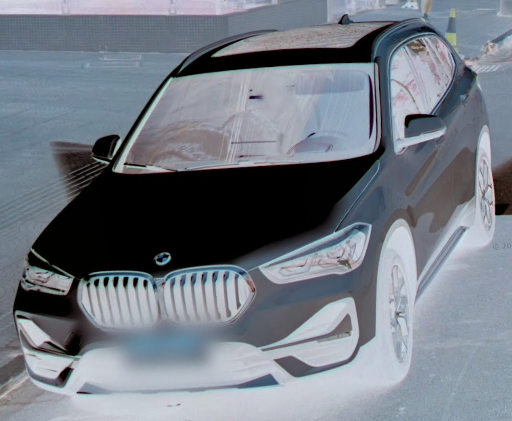car: (18, 23, 494, 394)
